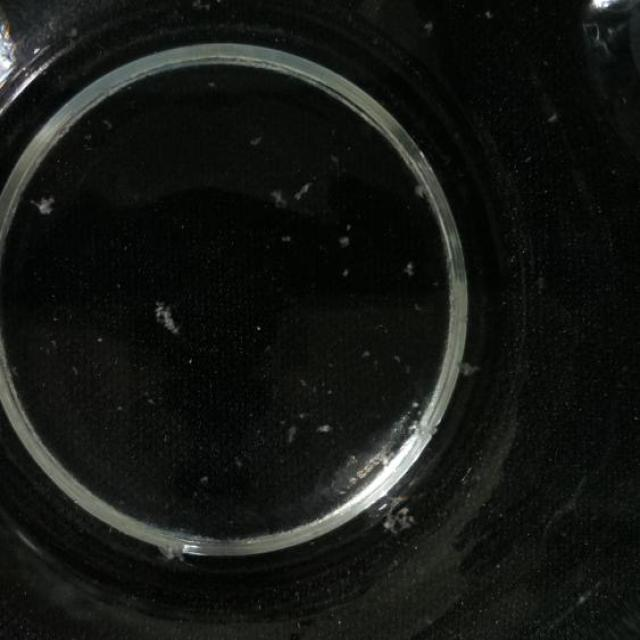fiber: (368, 488, 416, 539), (148, 295, 184, 342), (27, 190, 59, 213), (282, 416, 303, 448), (295, 176, 317, 206), (454, 358, 485, 378), (159, 537, 183, 560), (268, 186, 288, 211), (402, 254, 418, 284), (314, 419, 334, 441), (414, 180, 430, 203), (338, 224, 352, 247)
